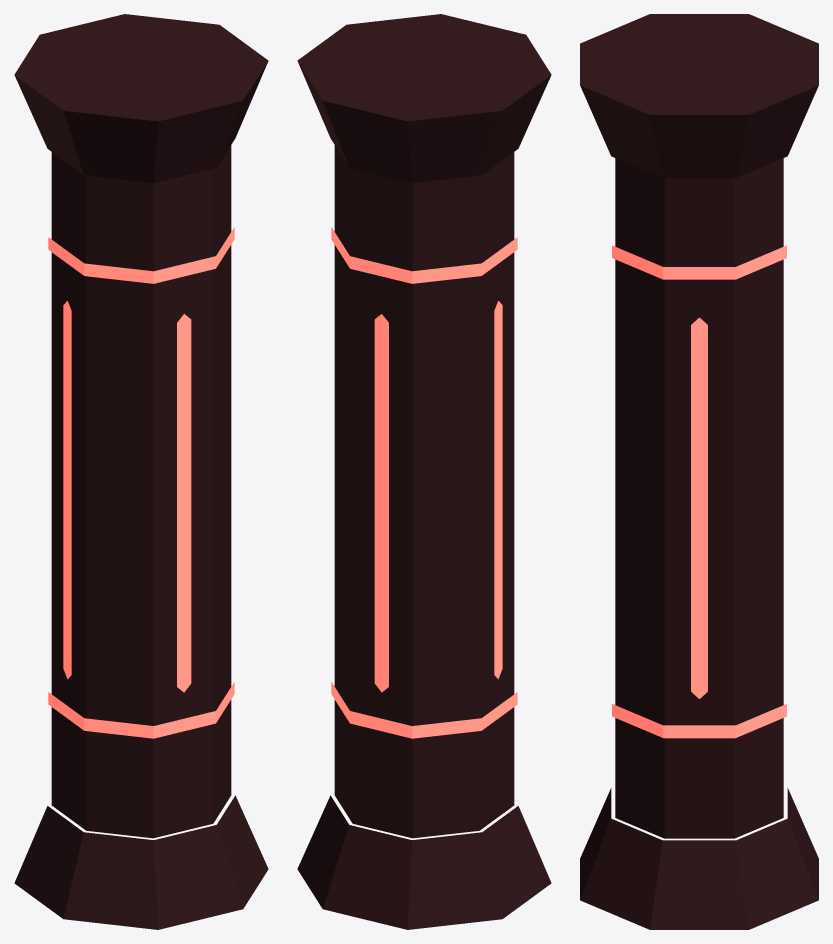
File: pillar_nightmare.glb
The picture shows the model from 3 angles, left to right: view 1: azimuth 30°, elevation 25°; view 2: azimuth 150°, elevation 25°; view 3: azimuth 270°, elevation 25°; orthographic projection.
Visible parts, largest first — view 1: Mesh; view 2: Mesh; view 3: Mesh.
Boxes of the visible parts, left/top/right/bottom form: Mesh: left=14, top=14, right=268, bottom=929; Mesh: left=297, top=14, right=551, bottom=929; Mesh: left=580, top=14, right=818, bottom=929.
Size of the model in its own units: 0.85 by 3.2 by 0.85.
